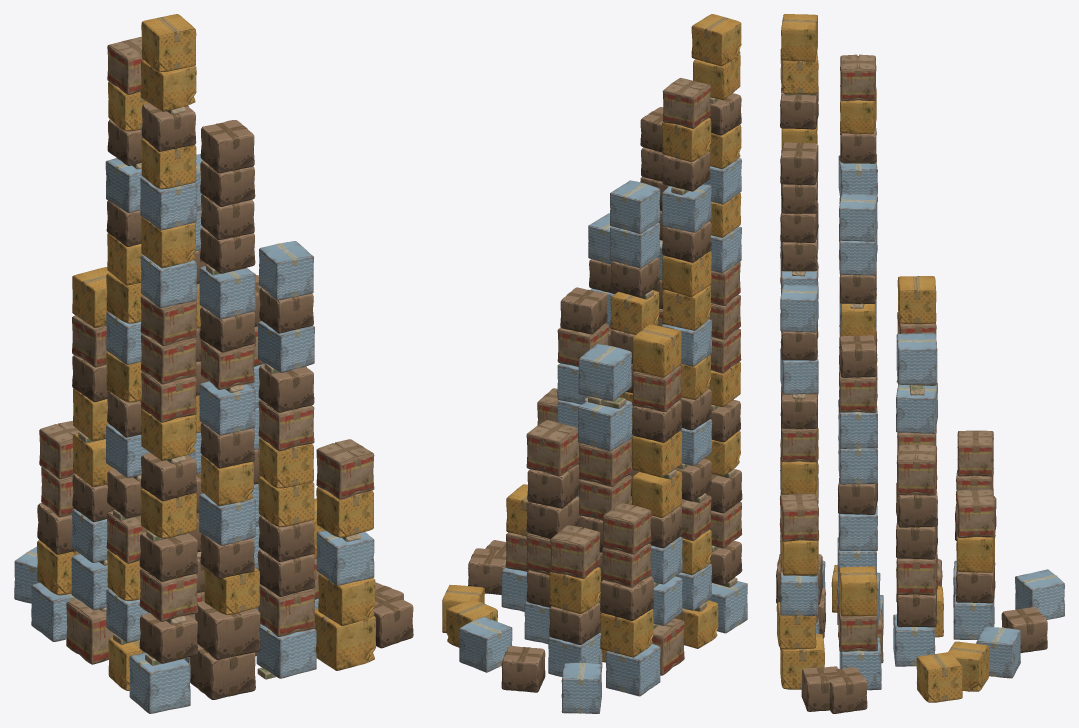
Rendered from angolo_scatoloni.gltf.
The picture shows the model from 3 angles, left to right: view 1: azimuth 30°, elevation 25°; view 2: azimuth 150°, elevation 25°; view 3: azimuth 270°, elevation 25°; orthographic projection. The views are drawn at different scales.
Parts seen in each view (by area): view 1: scat_0_0_0, scat_1_0_1, scat_3_0_5, scat_2_0_12, scat_3_0_0, scat_0_0_21, scat_3_0_2, scat_1_0_0, scat_1_0_11, scat_1_0_7, scat_2_0_1, scat_1_0_16 (+68 smaller); view 2: scat_1_2_9, scat_2_2_5, scat_caduto_4, scat_1_2_6, scat_1_3_3, scat_1_1_16, scat_0_2_11, scat_0_3_0, scat_0_0_21, scat_0_3_4, scat_0_1_19, scat_caduto_0 (+71 smaller); view 3: scat_1_2_9, scat_caduto_5, scat_2_2_5, scat_caduto_0, scat_3_1_2, scat_1_3_3, scat_1_2_6, scat_0_2_11, scat_1_1_16, scat_3_0_5, scat_2_0_12, scat_0_0_21 (+49 smaller).
Boxes of the visible parts, <box> form: scat_0_0_0: <box>129,653,190,713</box>; scat_1_0_1: <box>195,601,260,659</box>; scat_3_0_5: <box>316,439,374,499</box>; scat_2_0_12: <box>259,241,313,300</box>; scat_3_0_0: <box>314,608,375,670</box>; scat_0_0_21: <box>141,14,196,71</box>; scat_3_0_2: <box>316,530,374,585</box>; scat_1_0_0: <box>189,644,255,699</box>; scat_1_0_11: <box>199,266,255,319</box>; scat_1_0_7: <box>199,381,255,435</box>; scat_2_0_1: <box>256,624,316,678</box>; scat_1_0_16: <box>200,120,254,173</box>; scat_1_2_9: <box>578,344,631,401</box>; scat_2_2_5: <box>526,420,579,476</box>; scat_caduto_4: <box>459,617,512,672</box>; scat_1_2_6: <box>578,400,632,451</box>; scat_1_3_3: <box>550,525,600,578</box>; scat_1_1_16: <box>610,180,660,233</box>; scat_0_2_11: <box>632,324,681,377</box>; scat_0_3_0: <box>606,644,660,696</box>; scat_0_0_21: <box>691,14,741,66</box>; scat_0_3_4: <box>602,503,651,554</box>; scat_0_1_19: <box>662,78,710,128</box>; scat_caduto_0: <box>561,662,601,713</box>; scat_1_2_9: <box>896,333,937,384</box>; scat_caduto_5: <box>916,652,962,702</box>; scat_2_2_5: <box>896,444,937,495</box>; scat_caduto_0: <box>1015,569,1064,619</box>; scat_3_1_2: <box>838,566,877,616</box>; scat_1_3_3: <box>955,489,995,537</box>; scat_1_2_6: <box>896,383,937,433</box>; scat_0_2_11: <box>897,276,936,324</box>; scat_1_1_16: <box>839,193,877,241</box>; scat_3_0_5: <box>779,493,818,541</box>; scat_2_0_12: <box>780,284,818,332</box>; scat_0_0_21: <box>781,14,817,61</box>.
Size of what is drawn, in the model's own units: 4.08 by 9.36 by 4.18.
Materials: 5 (5 with a texture image).
